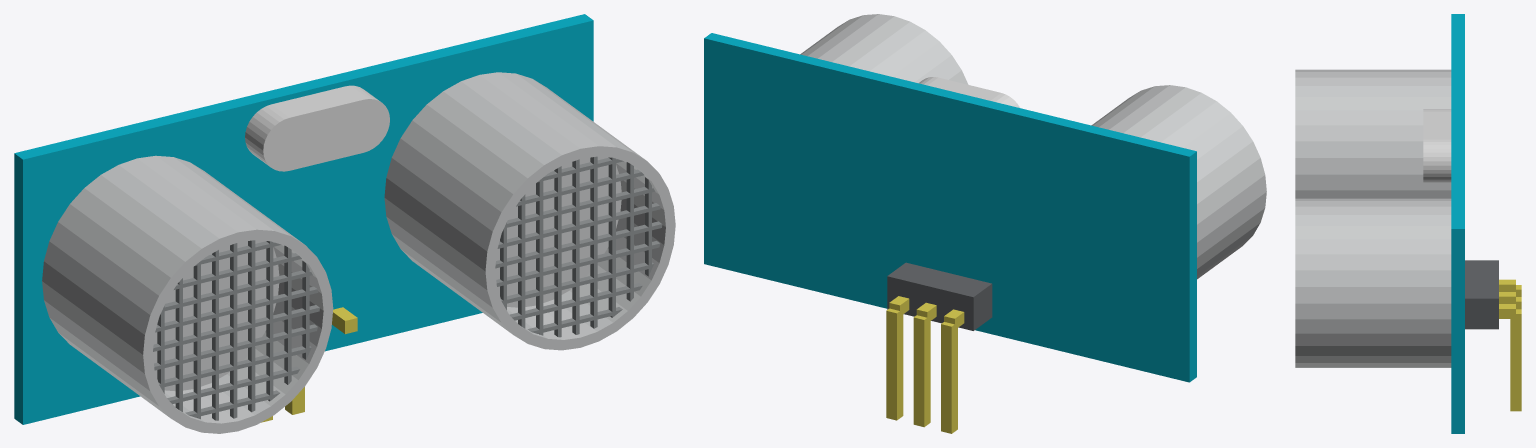
The picture shows the model from 3 angles, left to right: view 1: azimuth 30°, elevation 25°; view 2: azimuth 150°, elevation 25°; view 3: azimuth 270°, elevation 25°; orthographic projection. The views are drawn at different scales.
Parts seen in each view (by area): view 1: Mesh_Mesh_head_geo.001_lambert2SG.001; view 2: Mesh_Mesh_head_geo.001_lambert2SG.001; view 3: Mesh_Mesh_head_geo.001_lambert2SG.001.
Part boxes in pixels (left/top/right/bottom): Mesh_Mesh_head_geo.001_lambert2SG.001: left=14, top=14, right=675, bottom=433; Mesh_Mesh_head_geo.001_lambert2SG.001: left=704, top=14, right=1266, bottom=433; Mesh_Mesh_head_geo.001_lambert2SG.001: left=1295, top=14, right=1521, bottom=433.
Bounding box in the file's own units: 45 × 27 × 20.
